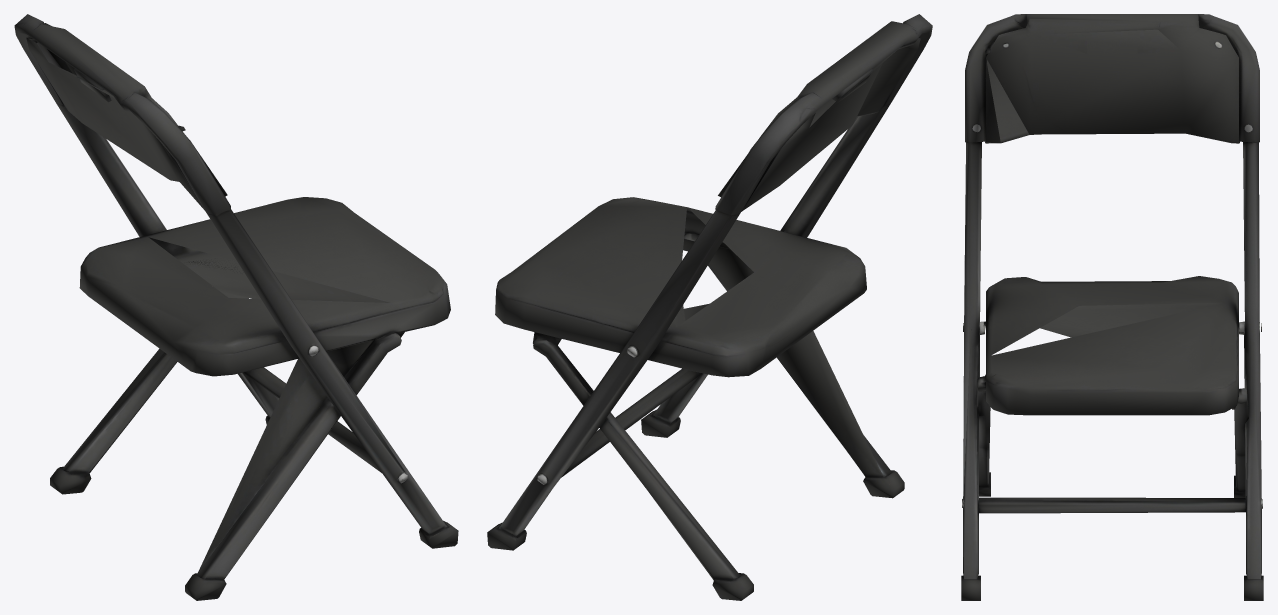
The model's file is ringside_chair.glb.
The picture shows the model from 3 angles, left to right: view 1: azimuth 30°, elevation 25°; view 2: azimuth 150°, elevation 25°; view 3: azimuth 270°, elevation 25°; orthographic projection. The views are drawn at different scales.
Visible parts, largest first — view 1: tripo_node_308304b4-c2eb-4fda-bc9b-73c1f0d4e4a1; view 2: tripo_node_308304b4-c2eb-4fda-bc9b-73c1f0d4e4a1; view 3: tripo_node_308304b4-c2eb-4fda-bc9b-73c1f0d4e4a1.
Part boxes in pixels (x1,y1,x2,y2): tripo_node_308304b4-c2eb-4fda-bc9b-73c1f0d4e4a1: (14, 14, 458, 600); tripo_node_308304b4-c2eb-4fda-bc9b-73c1f0d4e4a1: (487, 14, 932, 600); tripo_node_308304b4-c2eb-4fda-bc9b-73c1f0d4e4a1: (961, 14, 1263, 600).
Bounding box in the file's own units: 0.6751 × 1 × 0.5969.
1 material, 1 textured.
